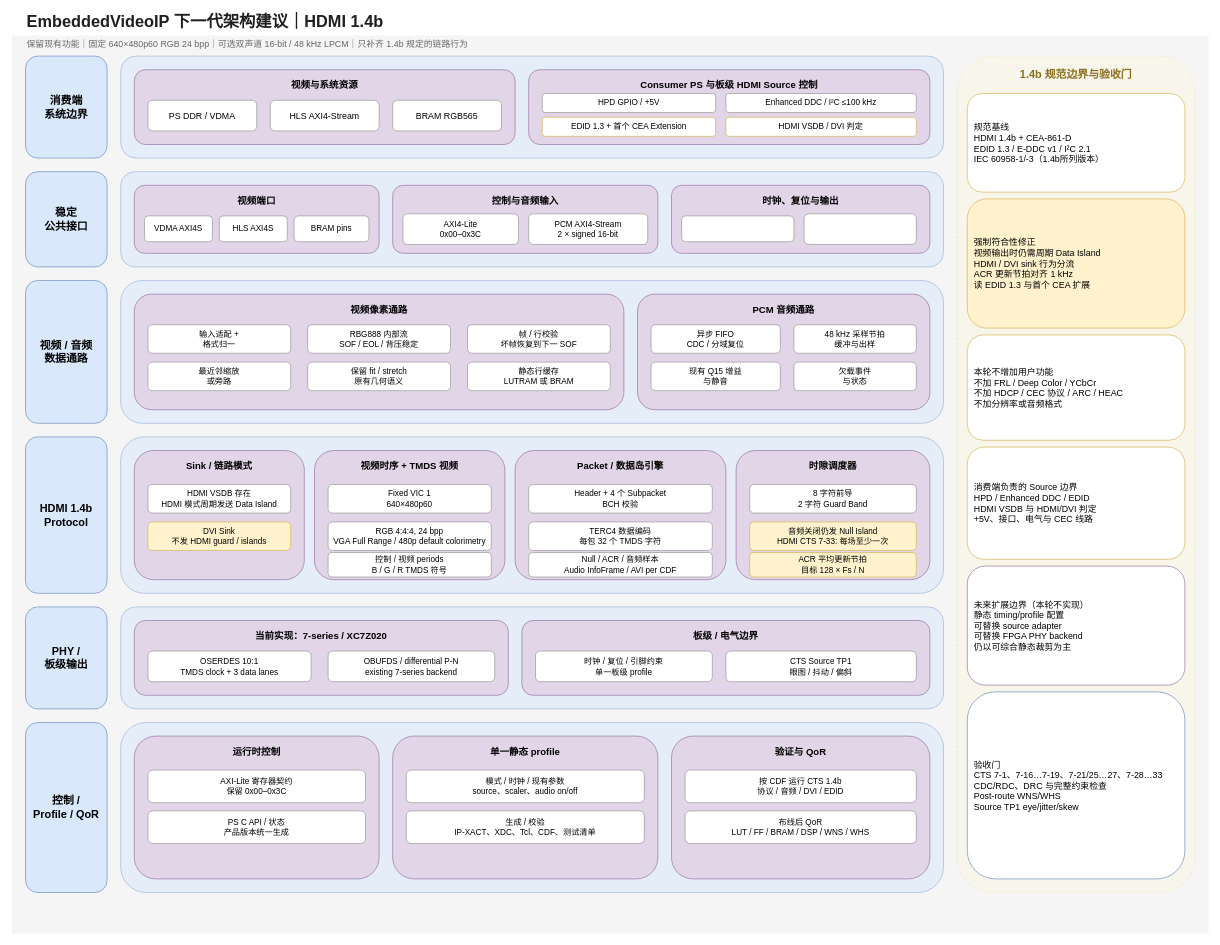
Image size: 1220x945. Some labels were removed from this diagram. The shapes that lost their labels are listed below. From the top down, each one's centre as x and y in pixels, then its label:
At (x=737, y=228): "aclk / reset / HDMI ref clk".
At (x=859, y=228): "TMDS P/N 3 data + clock".
